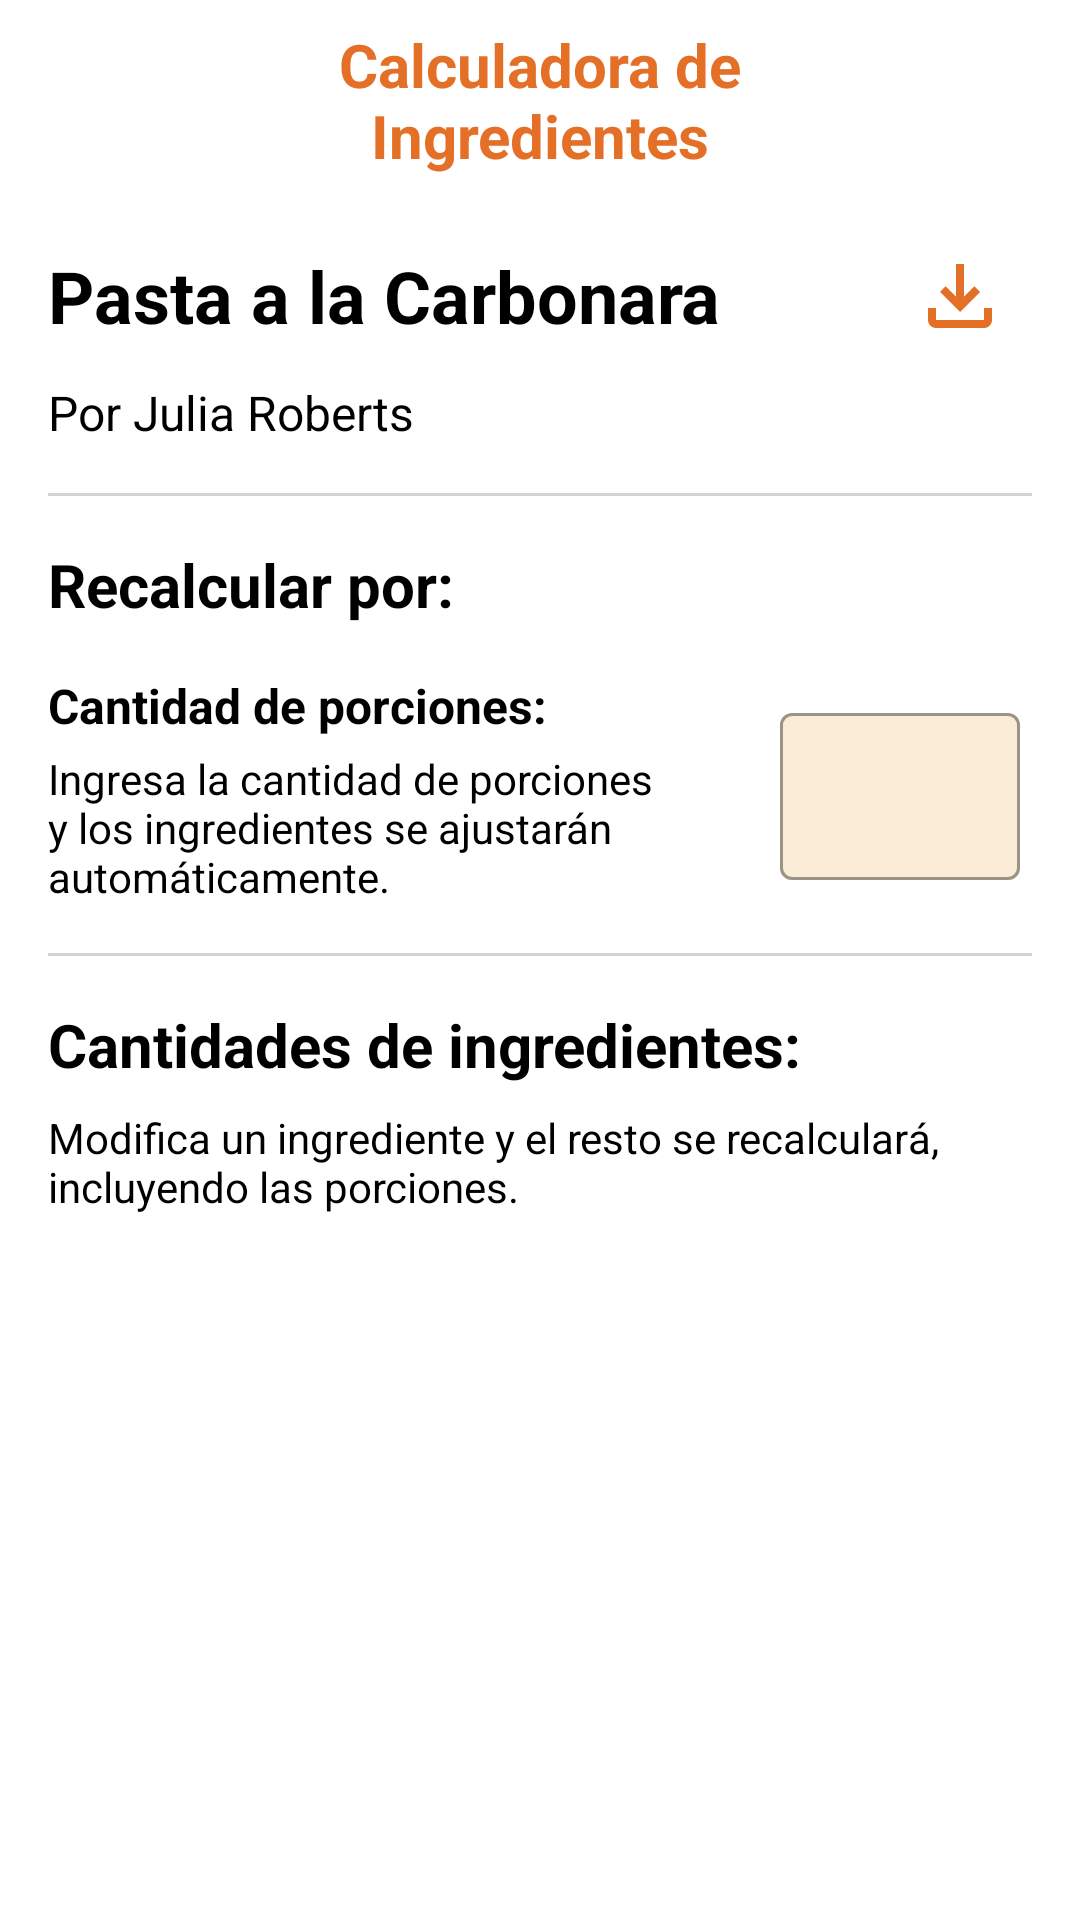

Named icons in this screenshot (1080 × 1920) and their bounding boxes, (x1=x1, y1=y1, x2=x2, y2=y2):
Guardar Receta Ajustada: (x1=928, y1=264, x2=992, y2=328)
